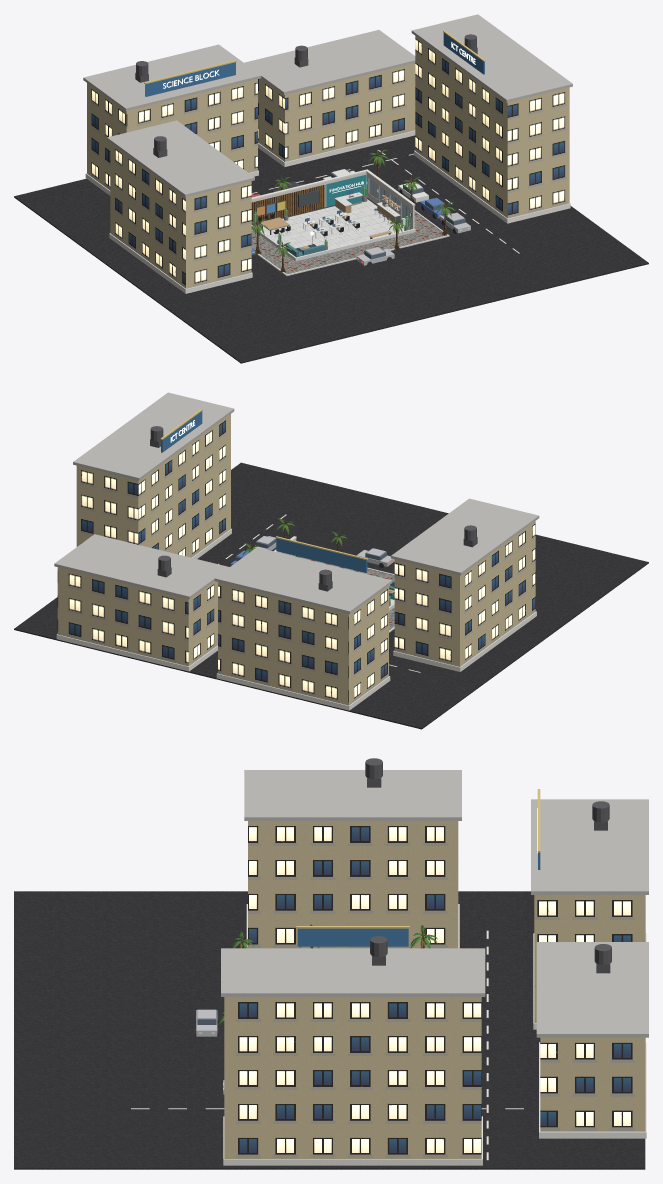
File: innovation-hub.glb
3 views of the same model, one above another, from view 1: azimuth 30°, elevation 25°; view 2: azimuth 150°, elevation 25°; view 3: azimuth 270°, elevation 25° (orthographic). The views are drawn at different scales.
Visible parts, largest first — view 1: FacadeLit, Asphalt, Roof, Trim, OfficeTile, Paving, SignBoard, OakSlats, ChairMetal, Marble, OfficeWall, BrandTeal (+3 smaller); view 2: FacadeLit, Asphalt, Roof, Trim, SignBoard, ChairMetal, CarSilver; view 3: FacadeLit, Asphalt, Roof, Trim, SignBoard, ChairMetal, Gold.
Part boxes in pixels (x1,y1,x2,y2): FacadeLit: (87,36,569,288); Asphalt: (14,135,648,363); Roof: (83,14,572,197); Trim: (85,130,570,293); OfficeTile: (258,199,404,249); Paving: (251,212,445,274); SignBoard: (145,33,484,96); OakSlats: (251,185,324,224); ChairMetal: (135,34,477,157); Marble: (251,192,415,261); OfficeWall: (251,172,414,229); BrandTeal: (322,174,402,222); FacadeLit: (57,414,535,705); Asphalt: (14,462,648,729); Roof: (54,392,539,613); Trim: (56,528,536,710); SignBoard: (161,411,367,572); ChairMetal: (150,426,477,591); CarSilver: (253,536,394,566); FacadeLit: (224,821,645,1158); Asphalt: (14,891,645,1169); Roof: (221,770,648,1037); Trim: (223,904,646,1165); SignBoard: (297,852,540,946); ChairMetal: (365,758,611,973); Gold: (296,789,540,928).
Bounding box in the file's own units: 56 × 18.95 × 54.3.
Materials: 45 (8 with a texture image).
